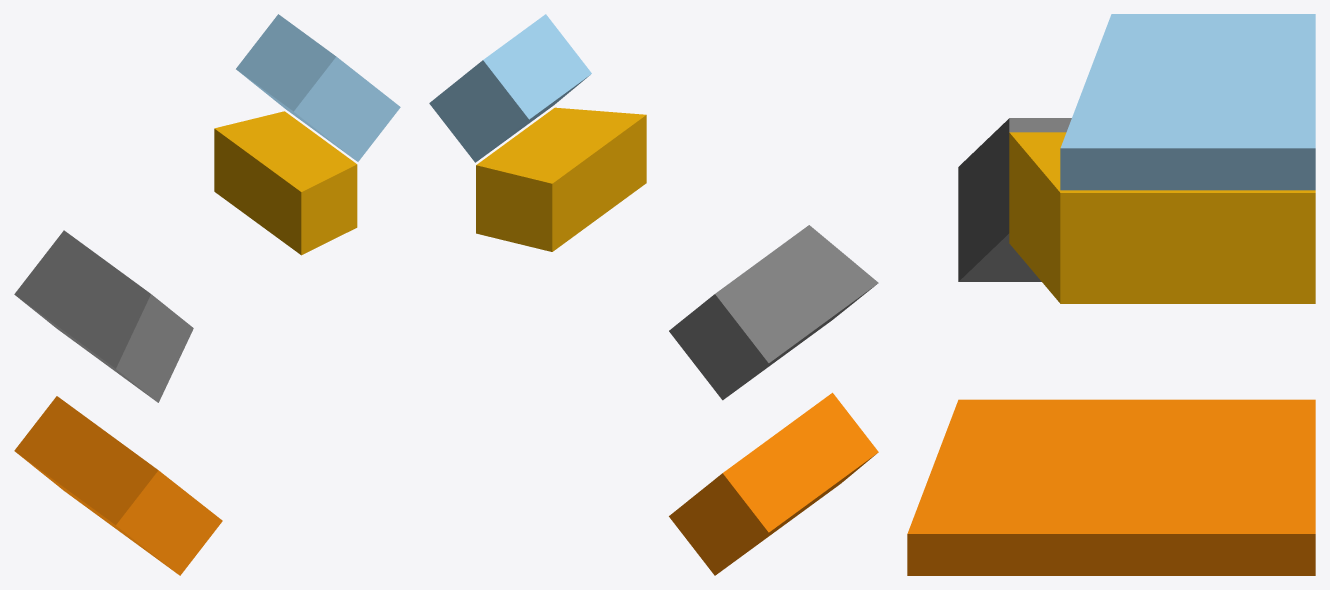
Rendered from ramps.obj.
The picture shows the model from 3 angles, left to right: view 1: azimuth 30°, elevation 25°; view 2: azimuth 150°, elevation 25°; view 3: azimuth 270°, elevation 25°; orthographic projection. The views are drawn at different scales.
Visible parts, largest first — view 1: mesh15, mesh6, mesh5, mesh10, mesh21, mesh20, mesh2, mesh17, mesh23, mesh7; view 2: mesh15, mesh6, mesh21, mesh20, mesh2, mesh18, mesh12, mesh0, mesh11; view 3: mesh8, mesh1, mesh19, mesh9, mesh3, mesh17, mesh23, mesh20, mesh16, mesh14.
Boxes of the visible parts, x1,y1,x2,y2 form: mesh15: (14, 230, 150, 368); mesh6: (14, 396, 158, 524); mesh5: (294, 56, 400, 161); mesh10: (116, 470, 222, 575); mesh21: (214, 129, 301, 254); mesh20: (214, 111, 356, 191); mesh2: (236, 14, 336, 111); mesh17: (116, 294, 193, 402); mesh23: (301, 164, 357, 255); mesh7: (17, 453, 176, 573); mesh15: (715, 225, 878, 362); mesh6: (723, 392, 878, 532); mesh21: (552, 115, 646, 251); mesh20: (476, 107, 646, 183); mesh2: (483, 14, 591, 119); mesh18: (476, 165, 552, 251); mesh12: (669, 294, 768, 400); mesh0: (429, 60, 528, 162); mesh11: (669, 473, 768, 575); mesh8: (907, 399, 1315, 533); mesh1: (1060, 14, 1315, 148); mesh19: (1060, 193, 1315, 303); mesh9: (907, 534, 1315, 575); mesh3: (1060, 148, 1315, 190); mesh17: (958, 118, 1009, 281); mesh23: (1009, 133, 1060, 303); mesh20: (1009, 132, 1315, 192); mesh16: (959, 233, 1041, 281); mesh14: (1009, 118, 1071, 132).
Bounding box in the file's own units: 3.12 × 4.03 × 2.
